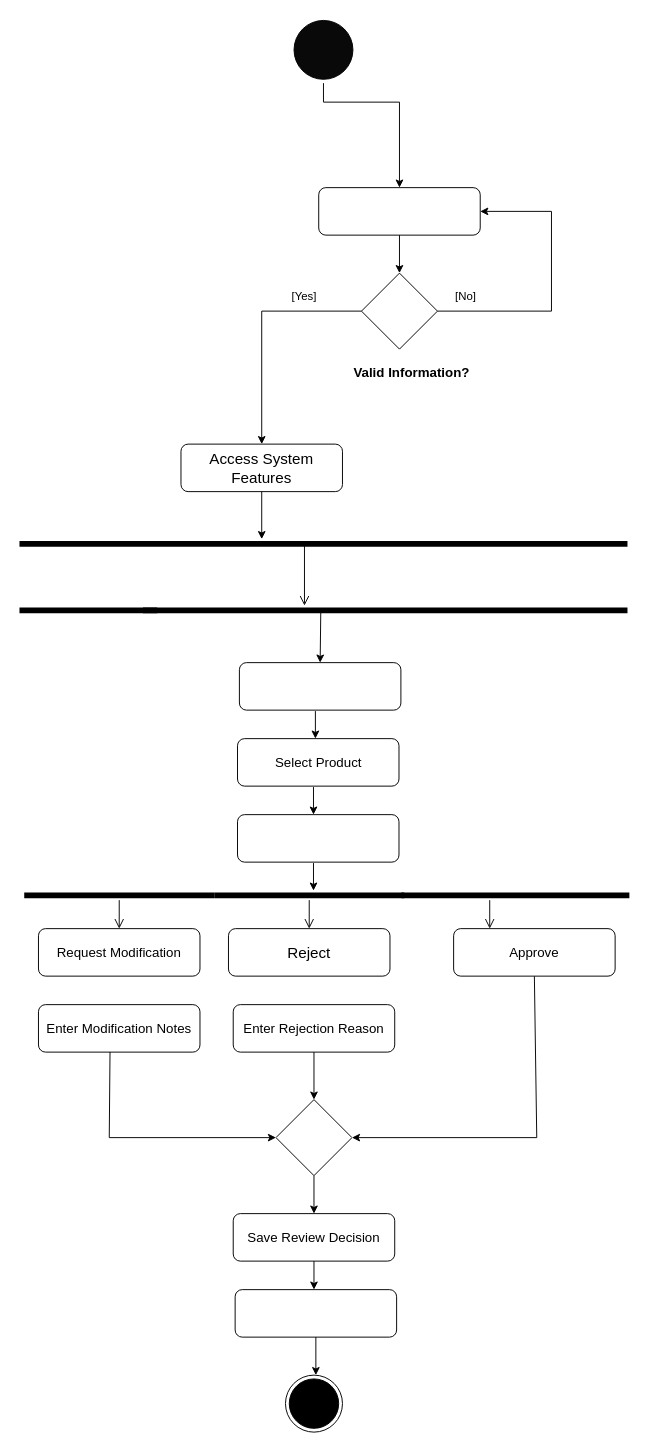
Image size: 648x1449. Some labels were removed from this diagram. Here are the shapes that lost their labels. From the top down, the centre of each, then its label:
At point 399,211: "Login".
At point 319,686: "View Pending Products".
At point 318,838: "Review Product Information".
At point 315,1313: "Notify The Farmer".
